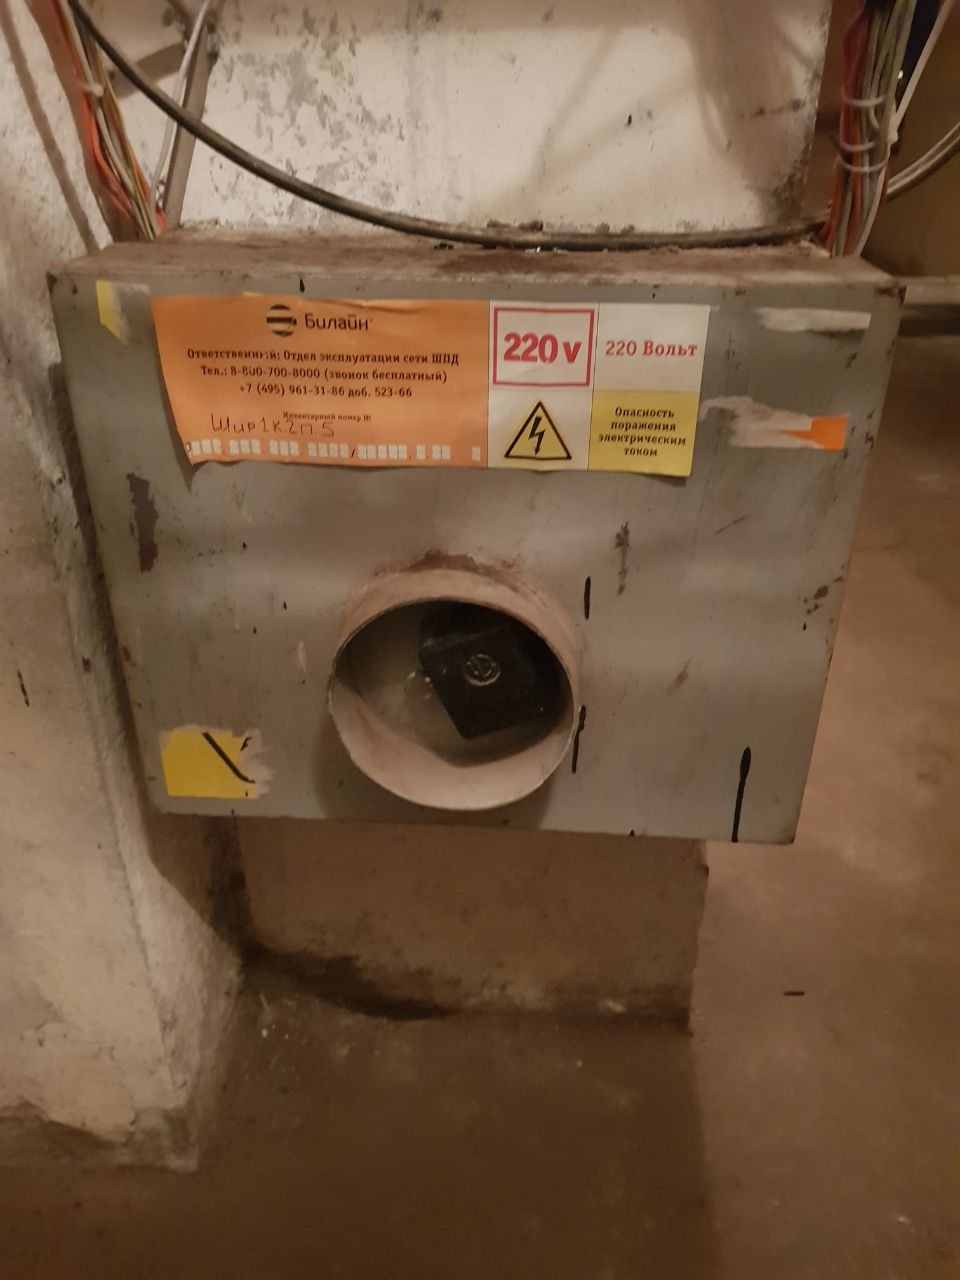shta-3: (43, 233, 911, 848)
